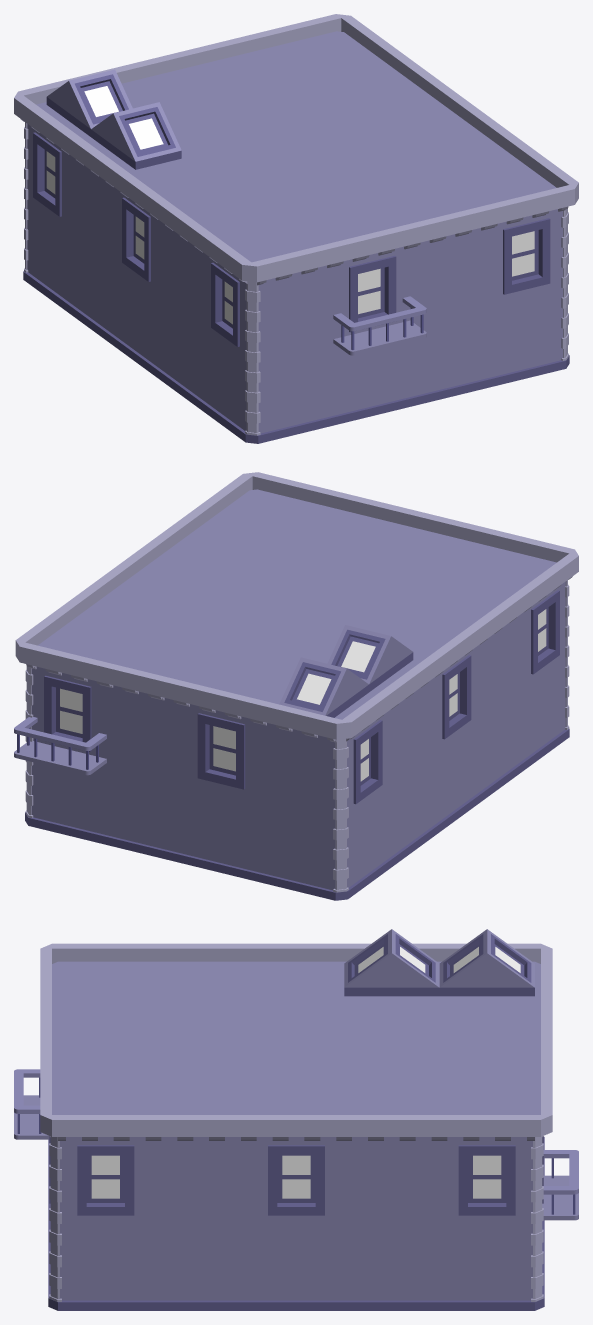
The picture shows the model from 3 angles, top to bottom: view 1: azimuth 30°, elevation 25°; view 2: azimuth 150°, elevation 25°; view 3: azimuth 270°, elevation 25°; orthographic projection. The views are drawn at different scales.
Visible parts, largest first — view 1: roof_flat (×19), wall_border (×9), cornice_extended (×18), window_closed (×5), wall (×4), roof_windowGlass (×2), balcony_basic, quoin_diagonal (×2); view 2: roof_flat (×18), wall_border (×9), cornice_extended (×18), window_closed (×5), wall (×4), roof_windowGlass (×2), balcony_basic, quoin_diagonal (×2); view 3: roof_flat (×20), wall_border (×5), cornice_extended (×18), window_closed (×3), wall (×2), roof_windowGlass (×2), balcony_basic (×2), quoin_diagonal (×4).
Boxes of the visible parts, box(x1,y1,x2,y2) form: roof_flat (×19): box(81, 31, 556, 262); wall_border (×9): box(23, 200, 569, 443); cornice_extended (×18): box(14, 14, 578, 285); window_closed (×5): box(27, 124, 562, 357); wall (×4): box(71, 156, 487, 360); roof_windowGlass (×2): box(46, 69, 181, 169); balcony_basic: box(333, 296, 426, 355); quoin_diagonal (×2): box(245, 281, 260, 435); roof_flat (×18): box(38, 489, 556, 703); wall_border (×9): box(25, 657, 569, 900); cornice_extended (×18): box(15, 472, 578, 742); window_closed (×5): box(31, 582, 565, 814); wall (×4): box(107, 613, 522, 817); roof_windowGlass (×2): box(279, 625, 413, 717); balcony_basic: box(14, 717, 106, 775); quoin_diagonal (×2): box(333, 738, 348, 892); roof_flat (×20): box(52, 961, 540, 1114); wall_border (×5): box(48, 1223, 544, 1310); cornice_extended (×18): box(40, 943, 552, 1140); window_closed (×3): box(60, 1137, 532, 1222); wall (×2): box(153, 1137, 439, 1222); roof_windowGlass (×2): box(344, 929, 534, 996); balcony_basic (×2): box(14, 1069, 578, 1220); quoin_diagonal (×4): box(49, 1136, 543, 1301).
Size of the model in its own units: 43.75 by 26 by 59.25.
